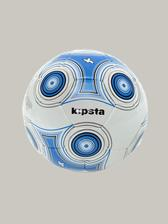other: (19, 49, 150, 176)
